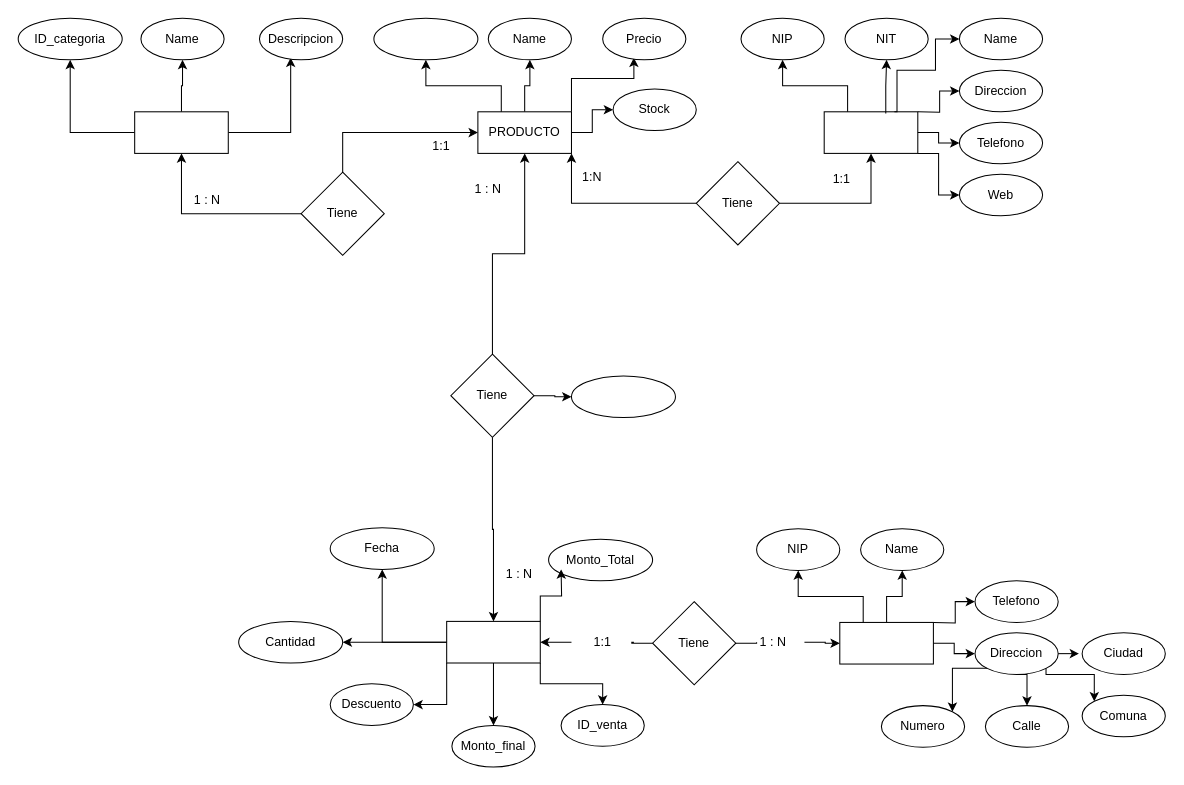
Some shapes in this 1184 by 785 pixel diagram are drawn without their labels. The box of each missing label's shape, as (x1, y1, x2, y2) in pixels:
Categoria: (134, 111, 228, 153)
CLIENTE: (839, 621, 933, 664)
iD_PRODUCTO: (373, 17, 478, 60)
Precio_unidad: (570, 375, 675, 418)
ROVEEDOR: (823, 111, 918, 153)
Venta: (446, 620, 540, 663)
